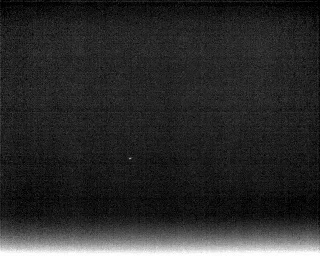AIRPLANE: (125, 154, 134, 163)
